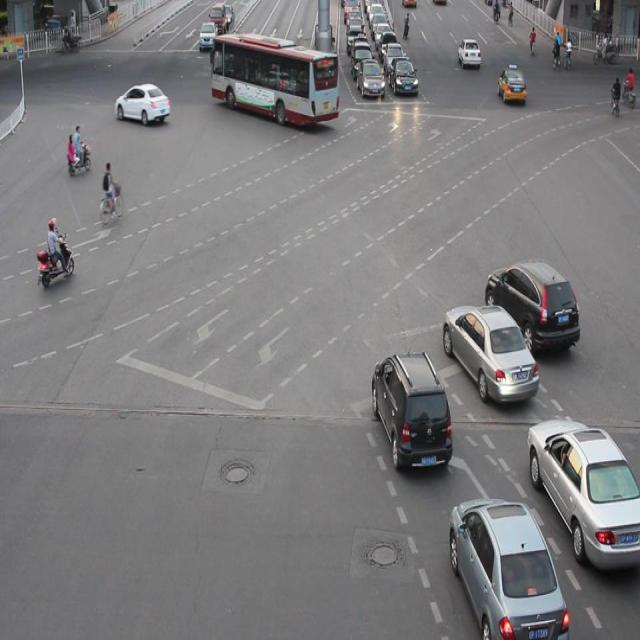car: (524, 413, 640, 571), (448, 493, 569, 640), (441, 301, 537, 404), (370, 348, 452, 467), (484, 257, 580, 353), (113, 81, 171, 125)
van: (212, 34, 339, 125)
